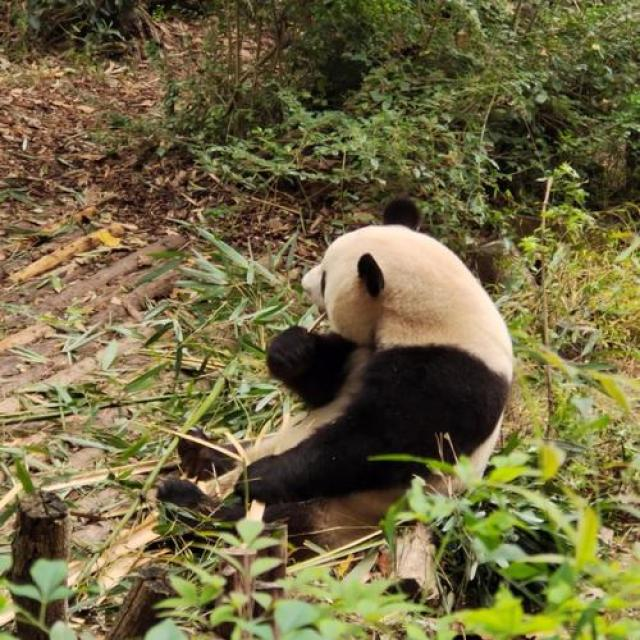panda: (167, 198, 544, 582)
